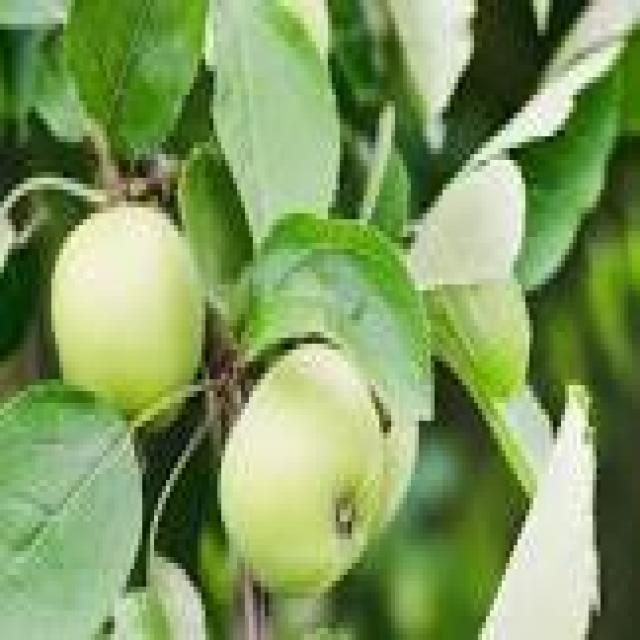apple: (218, 344, 387, 598), (52, 202, 205, 414), (380, 421, 418, 527), (281, 0, 331, 59)
